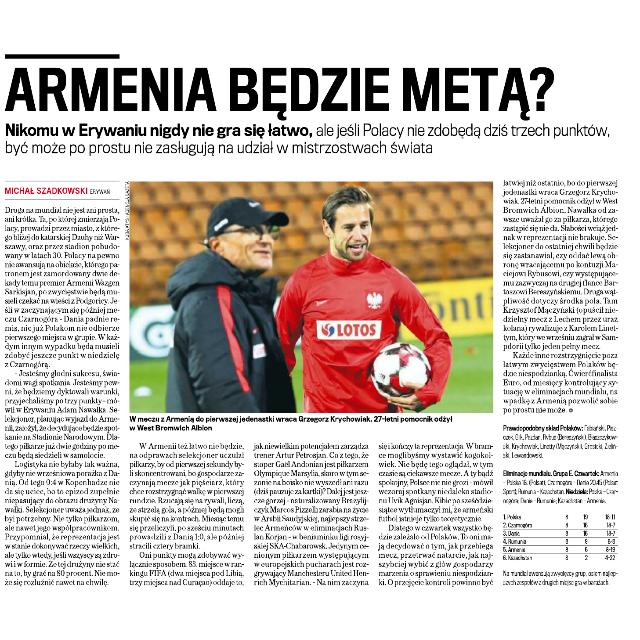author: (1, 184, 89, 198)
body: (2, 204, 122, 588), (498, 176, 622, 418), (126, 440, 247, 588), (252, 439, 370, 588), (376, 442, 494, 588)
caption: (130, 413, 457, 433)
image: (128, 180, 494, 414)
lead: (2, 122, 626, 158)
title: (4, 60, 568, 124)
